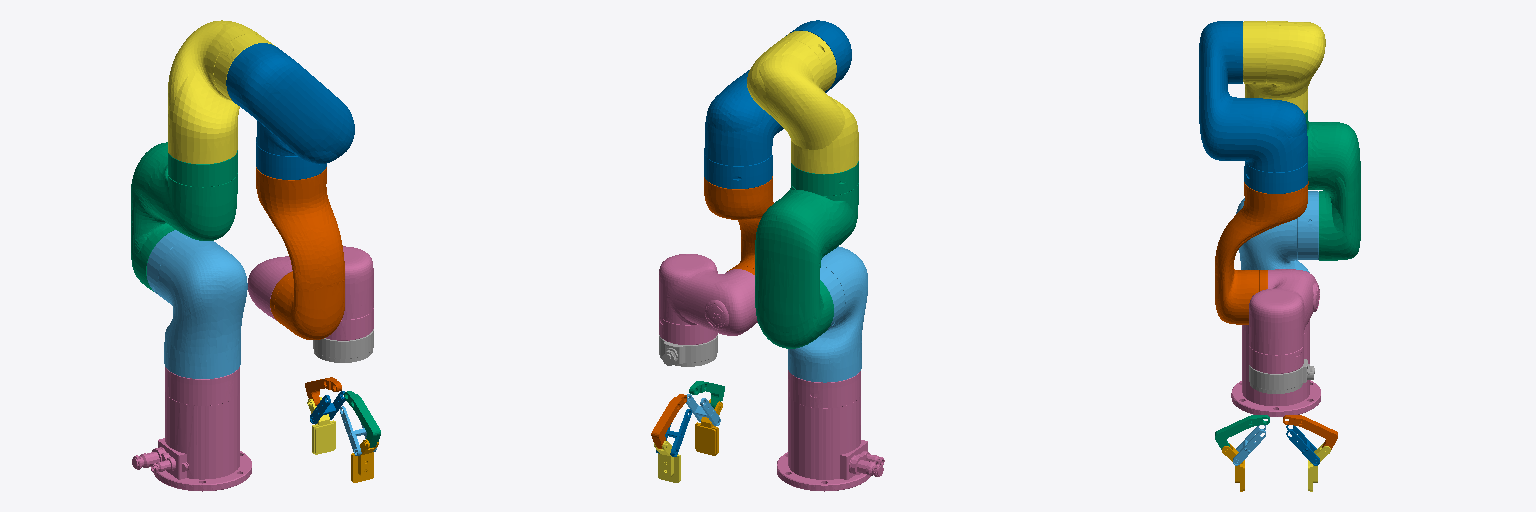
robot.urdf — xarm7:
<?xml version="1.0" encoding="UTF-8"?>
<robot name="xarm7">
  <joint name="UF_ROBOT_root_joint" type="fixed">
    <origin xyz="0. 0. 0." rpy="0. 0. 0."/>
    <parent link="UF_ROBOT"/>
    <child link="world"/>
  </joint>
  <joint name="drive_joint" type="revolute">
    <origin xyz="0. 0.035 0.059098" rpy="0. 0. 0."/>
    <parent link="xarm_gripper_base_link"/>
    <child link="gripper_left_outer_knuckle"/>
    <axis xyz="1. 0. 0."/>
    <limit lower="0." upper="0.85" effort="1000." velocity="1.9999999"/>
  </joint>
  <joint name="gripper_root_joint" type="fixed">
    <origin xyz="-0. 0.0000033 -0. " rpy="-0.0000073 0. 0. "/>
    <parent link="UF_ROBOT_link7"/>
    <child link="xarm_gripper_base_link"/>
  </joint>
  <joint name="joint1" type="revolute">
    <origin xyz="0. 0. 0.267" rpy="0. 0. 0."/>
    <parent link="world"/>
    <child link="UF_ROBOT_link1"/>
    <axis xyz="0. 0. 1."/>
    <limit lower="-6.2831853" upper="6.2831853" effort="50." velocity="3.1399998"/>
  </joint>
  <joint name="joint2" type="revolute">
    <origin xyz="0. 0. 0." rpy="-1.5708 0. 0. "/>
    <parent link="UF_ROBOT_link1"/>
    <child link="UF_ROBOT_link2"/>
    <axis xyz="0. 0. 1."/>
    <limit lower="-2.059" upper="2.0943998" effort="50." velocity="3.1399998"/>
  </joint>
  <joint name="joint3" type="revolute">
    <origin xyz="0. -0.293 -0. " rpy="1.5708 0. 0. "/>
    <parent link="UF_ROBOT_link2"/>
    <child link="UF_ROBOT_link3"/>
    <axis xyz="0. 0. 1."/>
    <limit lower="-6.2831853" upper="6.2831853" effort="30." velocity="3.1399998"/>
  </joint>
  <joint name="joint4" type="revolute">
    <origin xyz="0.0525 0. 0. " rpy="1.5708 0. 0. "/>
    <parent link="UF_ROBOT_link3"/>
    <child link="UF_ROBOT_link4"/>
    <axis xyz="0. 0. 1."/>
    <limit lower="-0.19198" upper="3.9269999" effort="30." velocity="3.1399998"/>
  </joint>
  <joint name="joint5" type="revolute">
    <origin xyz="0.0775 -0.3425 0. " rpy="1.5708 0. 0. "/>
    <parent link="UF_ROBOT_link4"/>
    <child link="UF_ROBOT_link5"/>
    <axis xyz="0. 0. 1."/>
    <limit lower="-6.2831853" upper="6.2831853" effort="30." velocity="3.1399998"/>
  </joint>
  <joint name="joint6" type="revolute">
    <origin xyz="0. -0. 0." rpy="1.5708001 0. 0. "/>
    <parent link="UF_ROBOT_link5"/>
    <child link="UF_ROBOT_link6"/>
    <axis xyz="0. 0. 1."/>
    <limit lower="-1.6929699" upper="3.1415927" effort="20." velocity="3.1399998"/>
  </joint>
  <joint name="joint7" type="revolute">
    <origin xyz="0.076 0.097 0. " rpy="-1.5708 0. 0. "/>
    <parent link="UF_ROBOT_link6"/>
    <child link="UF_ROBOT_link7"/>
    <axis xyz="0. 0. 1."/>
    <limit lower="-6.2831853" upper="6.2831853" effort="20." velocity="3.1399998"/>
  </joint>
  <joint name="left_finger_joint" type="revolute">
    <origin xyz="0. 0.035465 0.042039" rpy="0. 0. 3.1415927"/>
    <parent link="gripper_left_outer_knuckle"/>
    <child link="gripper_left_finger"/>
    <axis xyz="1. 0. 0."/>
    <limit lower="-0.17" upper="1.02" effort="0." velocity="17453.2925199"/>
  </joint>
  <joint name="left_inner_knuckle_joint" type="revolute">
    <origin xyz="0. 0.02 0.074098" rpy="0. 0. 0."/>
    <parent link="xarm_gripper_base_link"/>
    <child link="gripper_left_inner_knuckle"/>
    <axis xyz="1. 0. 0."/>
    <limit lower="-0.17" upper="1.02" effort="0." velocity="17453.2925199"/>
  </joint>
  <joint name="right_finger_joint" type="revolute">
    <origin xyz="0. 0.035465 0.042039" rpy="0. 0. 3.1415927"/>
    <parent link="gripper_right_outer_knuckle"/>
    <child link="gripper_right_finger"/>
    <axis xyz="1. 0. 0."/>
    <limit lower="-0.17" upper="1.02" effort="0." velocity="17453.2925199"/>
  </joint>
  <joint name="right_inner_knuckle_joint" type="revolute">
    <origin xyz="0. -0.02 0.074098" rpy="0. 0. 3.1415927"/>
    <parent link="xarm_gripper_base_link"/>
    <child link="gripper_right_inner_knuckle"/>
    <axis xyz="1. 0. 0."/>
    <limit lower="-0.17" upper="1.02" effort="0." velocity="17453.2925199"/>
  </joint>
  <joint name="right_outer_knuckle_joint" type="revolute">
    <origin xyz="0. -0.035 0.059098" rpy="0. 0. 3.1415927"/>
    <parent link="xarm_gripper_base_link"/>
    <child link="gripper_right_outer_knuckle"/>
    <axis xyz="1. 0. 0."/>
    <limit lower="-0.17" upper="1.02" effort="0." velocity="17453.2925199"/>
  </joint>
  <link name="UF_ROBOT"/>
  <link name="UF_ROBOT_link1">
    <inertial>
      <origin xyz="-0.0002 0.02905 -0.01233" rpy="0. 0. 0."/>
      <mass value="2.382"/>
      <inertia ixx="0.0056905" ixy="-0.0000158" ixz="0.0000051" iyy="0.0049566" iyz="-0.0008734" izz="0.0033167"/>
    </inertial>
    <visual>
      <origin xyz="0. 0. 0." rpy="1.5707872 0. 0. "/>
      <geometry>
        <mesh filename="./meshes/UF_ROBOT_link1_visuals_link1_mesh.obj" scale="1. 1. 1."/>
      </geometry>
    </visual>
    <visual>
      <origin xyz="0. 0. 0." rpy="0. 0. 0."/>
      <geometry>
        <mesh filename="./meshes/UF_ROBOT_link1_collisions_link1_mesh.obj" scale="1. 1. 1."/>
      </geometry>
    </visual>
    <collision>
      <origin xyz="0. 0. 0." rpy="0. 0. 0."/>
      <geometry>
        <mesh filename="./meshes/UF_ROBOT_link1_collisions_link1_mesh.obj" scale="1. 1. 1."/>
      </geometry>
    </collision>
  </link>
  <link name="UF_ROBOT_link2">
    <inertial>
      <origin xyz="0.00022 -0.12856 0.01735" rpy="0. 0. 0."/>
      <mass value="1.869"/>
      <inertia ixx="0.0095989" ixy="0.0000015" ixz="0.0000056" iyy="0.0038247" iyz="-0.0031716" izz="0.0075657"/>
    </inertial>
    <visual>
      <origin xyz="0. 0. 0." rpy="1.5707873 0. 0. "/>
      <geometry>
        <mesh filename="./meshes/UF_ROBOT_link2_visuals_link2_mesh.obj" scale="1. 1. 1."/>
      </geometry>
    </visual>
    <visual>
      <origin xyz="0. 0. 0." rpy="0.0000001 0. 0. "/>
      <geometry>
        <mesh filename="./meshes/UF_ROBOT_link2_collisions_link2_mesh.obj" scale="1. 1. 1."/>
      </geometry>
    </visual>
    <collision>
      <origin xyz="0. 0. 0." rpy="0.0000001 0. 0. "/>
      <geometry>
        <mesh filename="./meshes/UF_ROBOT_link2_collisions_link2_mesh.obj" scale="1. 1. 1."/>
      </geometry>
    </collision>
  </link>
  <link name="UF_ROBOT_link3">
    <inertial>
      <origin xyz="0.0466 -0.02463 -0.00768" rpy="0. 0. 0."/>
      <mass value="1.6382999"/>
      <inertia ixx="0.0031096" ixy="0.0003084" ixz="-0.0005845" iyy="0.0026448" iyz="0.0003389" izz="0.0026624"/>
    </inertial>
    <visual>
      <origin xyz="0. 0. 0." rpy="1.5707872 0. 0. "/>
      <geometry>
        <mesh filename="./meshes/UF_ROBOT_link3_visuals_link3_mesh.obj" scale="1. 1. 1."/>
      </geometry>
    </visual>
    <visual>
      <origin xyz="0. 0. 0." rpy="-0.0000001 0. 0. "/>
      <geometry>
        <mesh filename="./meshes/UF_ROBOT_link3_collisions_link3_mesh.obj" scale="1. 1. 1."/>
      </geometry>
    </visual>
    <collision>
      <origin xyz="0. 0. 0." rpy="-0.0000001 0. 0. "/>
      <geometry>
        <mesh filename="./meshes/UF_ROBOT_link3_collisions_link3_mesh.obj" scale="1. 1. 1."/>
      </geometry>
    </collision>
  </link>
  <link name="UF_ROBOT_link4">
    <inertial>
      <origin xyz="0.07047 -0.11575 0.012 " rpy="0. 0. 0."/>
      <mass value="1.7269"/>
      <inertia ixx="0.005889" ixy="0.0013711" ixz="0.0008814" iyy="0.003597" iyz="-0.0017622" izz="0.0054324"/>
    </inertial>
    <visual>
      <origin xyz="0. 0. 0." rpy="1.5707872 0. 0. "/>
      <geometry>
        <mesh filename="./meshes/UF_ROBOT_link4_visuals_link4_mesh.obj" scale="1. 1. 1."/>
      </geometry>
    </visual>
    <visual>
      <origin xyz="0. 0. 0." rpy="-0.0000001 0. 0. "/>
      <geometry>
        <mesh filename="./meshes/UF_ROBOT_link4_collisions_link4_mesh.obj" scale="1. 1. 1."/>
      </geometry>
    </visual>
    <collision>
      <origin xyz="0. 0. 0." rpy="-0.0000001 0. 0. "/>
      <geometry>
        <mesh filename="./meshes/UF_ROBOT_link4_collisions_link4_mesh.obj" scale="1. 1. 1."/>
      </geometry>
    </collision>
  </link>
  <link name="UF_ROBOT_link5">
    <inertial>
      <origin xyz="-0.00032 0.01604 -0.026 " rpy="0. 0. 0."/>
      <mass value="1.3203"/>
      <inertia ixx="0.0053467" ixy="0.0000151" ixz="-0.0000004" iyy="0.0049779" iyz="-0.0002213" izz="0.0013624"/>
    </inertial>
    <visual>
      <origin xyz="0. -0. 0." rpy="1.5707873 0. 0. "/>
      <geometry>
        <mesh filename="./meshes/UF_ROBOT_link5_visuals_link5_mesh.obj" scale="1. 1. 1."/>
      </geometry>
    </visual>
    <visual>
      <origin xyz="0. -0. 0." rpy="0.0000001 0. 0. "/>
      <geometry>
        <mesh filename="./meshes/UF_ROBOT_link5_collisions_link5_mesh.obj" scale="1. 1. 1."/>
      </geometry>
    </visual>
    <collision>
      <origin xyz="0. -0. 0." rpy="0.0000001 0. 0. "/>
      <geometry>
        <mesh filename="./meshes/UF_ROBOT_link5_collisions_link5_mesh.obj" scale="1. 1. 1."/>
      </geometry>
    </collision>
  </link>
  <link name="UF_ROBOT_link6">
    <inertial>
      <origin xyz="0.06469 0.03278 0.02141" rpy="0. 0. 0."/>
      <mass value="1.325"/>
      <inertia ixx="0.0014745" ixy="-0.000488" ixz="0.0002953" iyy="0.0019037" iyz="0.0001475" izz="0.0023652"/>
    </inertial>
    <visual>
      <origin xyz="0. 0. 0." rpy="1.5707872 0. 0. "/>
      <geometry>
        <mesh filename="./meshes/UF_ROBOT_link6_visuals_link6_mesh.obj" scale="1. 1. 1."/>
      </geometry>
    </visual>
    <visual>
      <origin xyz="0. 0. 0." rpy="0. 0. 0."/>
      <geometry>
        <mesh filename="./meshes/UF_ROBOT_link6_collisions_link6_mesh.obj" scale="1. 1. 1."/>
      </geometry>
    </visual>
    <collision>
      <origin xyz="0. 0. 0." rpy="0. 0. 0."/>
      <geometry>
        <mesh filename="./meshes/UF_ROBOT_link6_collisions_link6_mesh.obj" scale="1. 1. 1."/>
      </geometry>
    </collision>
  </link>
  <link name="UF_ROBOT_link7">
    <inertial>
      <origin xyz="0. -0.00677 -0.01098" rpy="0. 0. 0."/>
      <mass value="0.17"/>
      <inertia ixx="0.000093" ixy="0." ixz="0." iyy="0.0000587" iyz="-0.0000036" izz="0.000132"/>
    </inertial>
    <visual>
      <origin xyz="0. -0. 0." rpy="1.5707872 0. 0. "/>
      <geometry>
        <mesh filename="./meshes/UF_ROBOT_link7_visuals_link7_mesh.obj" scale="1. 1. 1."/>
      </geometry>
    </visual>
    <visual>
      <origin xyz="0. -0. 0." rpy="-0. 0. 0."/>
      <geometry>
        <mesh filename="./meshes/end_tool_mesh.obj" scale="1. 1. 1."/>
      </geometry>
    </visual>
    <collision>
      <origin xyz="0. -0. 0." rpy="-0. 0. 0."/>
      <geometry>
        <mesh filename="./meshes/end_tool_mesh.obj" scale="1. 1. 1."/>
      </geometry>
    </collision>
  </link>
  <link name="gripper_left_finger">
    <inertial>
      <origin xyz="0. -0.016413 0.029258" rpy="0. 0. 0."/>
      <mass value="0.048304"/>
      <inertia ixx="0.0000175" ixy="0." ixz="0." iyy="0.0000172" iyz="-0.0000046" izz="0.0000051"/>
    </inertial>
    <visual>
      <origin xyz="0. 0. -0." rpy="1.5707872 0. -3.1415927"/>
      <geometry>
        <mesh filename="./meshes/gripper_left_finger_visuals_left_finger_mesh.obj" scale="1. 1. 1."/>
      </geometry>
    </visual>
    <visual>
      <origin xyz="0. 0. -0." rpy="0. 0. 3.1415927"/>
      <geometry>
        <mesh filename="./meshes/gripper_left_finger_collisions_left_finger_mesh.obj" scale="1. 1. 1."/>
      </geometry>
    </visual>
    <collision>
      <origin xyz="0. 0. -0." rpy="0. 0. 3.1415927"/>
      <geometry>
        <mesh filename="./meshes/gripper_left_finger_collisions_left_finger_mesh.obj" scale="1. 1. 1."/>
      </geometry>
    </collision>
  </link>
  <link name="gripper_left_inner_knuckle">
    <inertial>
      <origin xyz="0.0000019 0.0220468 0.0261335" rpy="0. 0. 0."/>
      <mass value="0.0230126"/>
      <inertia ixx="0.0000061" ixy="-0." ixz="-0." iyy="0.000006" iyz="0.0000028" izz="0.0000051"/>
    </inertial>
    <visual>
      <origin xyz="0. 0. 0." rpy="1.5707872 0. 0. "/>
      <geometry>
        <mesh filename="./meshes/gripper_left_inner_knuckle_visuals_left_inner_knuckle_mesh.obj" scale="1. 1. 1."/>
      </geometry>
    </visual>
    <visual>
      <origin xyz="0. 0. 0." rpy="0. 0. 0."/>
      <geometry>
        <mesh filename="./meshes/gripper_left_inner_knuckle_collisions_left_inner_knuckle_mesh.obj" scale="1. 1. 1."/>
      </geometry>
    </visual>
    <collision>
      <origin xyz="0. 0. 0." rpy="0. 0. 0."/>
      <geometry>
        <mesh filename="./meshes/gripper_left_inner_knuckle_collisions_left_inner_knuckle_mesh.obj" scale="1. 1. 1."/>
      </geometry>
    </collision>
  </link>
  <link name="gripper_left_outer_knuckle">
    <inertial>
      <origin xyz="0. 0.021559 0.015181" rpy="0. 0. 0."/>
      <mass value="0.033618"/>
      <inertia ixx="0.0000191" ixy="0." ixz="0." iyy="0.0000066" iyz="0.0000073" izz="0.0000132"/>
    </inertial>
    <visual>
      <origin xyz="0. 0. 0." rpy="1.5707872 0. 0. "/>
      <geometry>
        <mesh filename="./meshes/gripper_left_outer_knuckle_visuals_left_outer_knuckle_mesh.obj" scale="1. 1. 1."/>
      </geometry>
    </visual>
    <visual>
      <origin xyz="0. 0. 0." rpy="0. 0. 0."/>
      <geometry>
        <mesh filename="./meshes/gripper_left_outer_knuckle_collisions_left_outer_knuckle_mesh.obj" scale="1. 1. 1."/>
      </geometry>
    </visual>
    <collision>
      <origin xyz="0. 0. 0." rpy="0. 0. 0."/>
      <geometry>
        <mesh filename="./meshes/gripper_left_outer_knuckle_collisions_left_outer_knuckle_mesh.obj" scale="1. 1. 1."/>
      </geometry>
    </collision>
  </link>
  <link name="gripper_right_finger">
    <inertial>
      <origin xyz="0. 0.016413 0.029258" rpy="0. 0. 0."/>
      <mass value="0.048304"/>
      <inertia ixx="0.0000175" ixy="0." ixz="0." iyy="0.0000172" iyz="0.0000046" izz="0.0000051"/>
    </inertial>
    <visual>
      <origin xyz="0. 0. 0." rpy="1.5707872 0. 0. "/>
      <geometry>
        <mesh filename="./meshes/gripper_right_finger_visuals_right_finger_mesh.obj" scale="1. 1. 1."/>
      </geometry>
    </visual>
    <visual>
      <origin xyz="0. 0. 0." rpy="0. 0. 0."/>
      <geometry>
        <mesh filename="./meshes/gripper_right_finger_collisions_right_finger_mesh.obj" scale="1. 1. 1."/>
      </geometry>
    </visual>
    <collision>
      <origin xyz="0. 0. 0." rpy="0. 0. 0."/>
      <geometry>
        <mesh filename="./meshes/gripper_right_finger_collisions_right_finger_mesh.obj" scale="1. 1. 1."/>
      </geometry>
    </collision>
  </link>
  <link name="gripper_right_inner_knuckle">
    <inertial>
      <origin xyz="0.0000019 -0.022047 0.026133 " rpy="0. 0. 0."/>
      <mass value="0.023013"/>
      <inertia ixx="0.0000061" ixy="0." ixz="-0." iyy="0.000006" iyz="-0.0000028" izz="0.0000051"/>
    </inertial>
    <visual>
      <origin xyz="0. 0. 0." rpy="1.5707872 0. -3.1415927"/>
      <geometry>
        <mesh filename="./meshes/gripper_right_inner_knuckle_visuals_right_inner_knuckle_mesh.obj" scale="1. 1. 1."/>
      </geometry>
    </visual>
    <visual>
      <origin xyz="0. 0. 0." rpy="0. 0. 3.1415927"/>
      <geometry>
        <mesh filename="./meshes/gripper_right_inner_knuckle_collisions_right_inner_knuckle_mesh.obj" scale="1. 1. 1."/>
      </geometry>
    </visual>
    <collision>
      <origin xyz="0. 0. 0." rpy="0. 0. 3.1415927"/>
      <geometry>
        <mesh filename="./meshes/gripper_right_inner_knuckle_collisions_right_inner_knuckle_mesh.obj" scale="1. 1. 1."/>
      </geometry>
    </collision>
  </link>
  <link name="gripper_right_outer_knuckle">
    <inertial>
      <origin xyz="0. -0.021559 0.015181" rpy="0. 0. 0."/>
      <mass value="0.033618"/>
      <inertia ixx="0.0000191" ixy="0." ixz="0." iyy="0.0000066" iyz="-0.0000073" izz="0.0000132"/>
    </inertial>
    <visual>
      <origin xyz="0. 0. 0." rpy="1.5707872 0. -3.1415927"/>
      <geometry>
        <mesh filename="./meshes/gripper_right_outer_knuckle_visuals_right_outer_knuckle_mesh.obj" scale="1. 1. 1."/>
      </geometry>
    </visual>
    <visual>
      <origin xyz="0. 0. 0." rpy="0. 0. 3.1415927"/>
      <geometry>
        <mesh filename="./meshes/gripper_right_outer_knuckle_collisions_right_outer_knuckle_mesh.obj" scale="1. 1. 1."/>
      </geometry>
    </visual>
    <collision>
      <origin xyz="0. 0. 0." rpy="0. 0. 3.1415927"/>
      <geometry>
        <mesh filename="./meshes/gripper_right_outer_knuckle_collisions_right_outer_knuckle_mesh.obj" scale="1. 1. 1."/>
      </geometry>
    </collision>
  </link>
  <link name="world">
    <inertial>
      <origin xyz="-0.021131 -0.0016302 0.056488 " rpy="0. 0. 0."/>
      <mass value="0.88556"/>
      <inertia ixx="0.0030595" ixy="0.0001226" ixz="-0.000627" iyy="0.0037783" iyz="0.0002702" izz="0.0020125"/>
    </inertial>
    <visual>
      <origin xyz="0. 0. 0." rpy="1.5707872 0. 0. "/>
      <geometry>
        <mesh filename="./meshes/world_visuals_link_base_mesh.obj" scale="1. 1. 1."/>
      </geometry>
    </visual>
    <visual>
      <origin xyz="0. 0. 0." rpy="0. 0. 0."/>
      <geometry>
        <mesh filename="./meshes/world_collisions_link_base_mesh.obj" scale="1. 1. 1."/>
      </geometry>
    </visual>
    <collision>
      <origin xyz="0. 0. 0." rpy="0. 0. 0."/>
      <geometry>
        <mesh filename="./meshes/world_collisions_link_base_mesh.obj" scale="1. 1. 1."/>
      </geometry>
    </collision>
  </link>
  <link name="xarm_gripper_base_link">
    <inertial>
      <origin xyz="-0.0006549 -0.0018497 0.048028 " rpy="0. 0. 0."/>
      <mass value="0.54156"/>
      <inertia ixx="0.0004711" ixy="-0.0000004" ixz="-0.0000027" iyy="0.0003307" iyz="0.000011" izz="0.0002564"/>
    </inertial>
    <visual>
      <origin xyz="0. 0. 0." rpy="0. 0. 0."/>
      <geometry>
        <mesh filename="./meshes/xarm_gripper_base_link_visuals_base_link_mesh.obj" scale="1. 1. 1."/>
      </geometry>
    </visual>
    <visual>
      <origin xyz="0. 0. 0." rpy="0. 0. 0."/>
      <geometry>
        <mesh filename="./meshes/xarm_gripper_base_link_collisions_base_link_mesh.obj" scale="1. 1. 1."/>
      </geometry>
    </visual>
    <collision>
      <origin xyz="0. 0. 0." rpy="0. 0. 0."/>
      <geometry>
        <mesh filename="./meshes/xarm_gripper_base_link_collisions_base_link_mesh.obj" scale="1. 1. 1."/>
      </geometry>
    </collision>
  </link>
</robot>

--- Facts derived from the render (not from the file) ---
The picture shows the robot from 3 angles, left to right: view 1: azimuth 30°, elevation 25°; view 2: azimuth 150°, elevation 25°; view 3: azimuth 270°, elevation 25°; orthographic projection.
Robot: xarm7 — 16 links, 15 joints (13 revolute, 2 fixed); root link UF_ROBOT; default pose: every joint at zero.
Links seen in each view (by area): view 1: UF_ROBOT_link4, UF_ROBOT_link1, UF_ROBOT_link5, world, UF_ROBOT_link2, UF_ROBOT_link3, UF_ROBOT_link6, UF_ROBOT_link7, gripper_right_finger, gripper_left_outer_knuckle, gripper_left_finger, gripper_right_inner_knuckle; view 2: UF_ROBOT_link2, UF_ROBOT_link3, world, UF_ROBOT_link4, UF_ROBOT_link6, UF_ROBOT_link1, UF_ROBOT_link5, UF_ROBOT_link7, gripper_left_finger, gripper_right_finger, gripper_right_outer_knuckle; view 3: UF_ROBOT_link4, UF_ROBOT_link2, UF_ROBOT_link3, UF_ROBOT_link6, UF_ROBOT_link5, UF_ROBOT_link1, world, UF_ROBOT_link7, gripper_right_outer_knuckle, gripper_left_outer_knuckle, gripper_right_inner_knuckle, gripper_left_inner_knuckle.
Boxes of the visible links, left/top/right/bottom form: UF_ROBOT_link4: left=226, top=43, right=354, bottom=179; UF_ROBOT_link1: left=147, top=230, right=247, bottom=378; UF_ROBOT_link5: left=256, top=167, right=344, bottom=339; world: left=132, top=367, right=251, bottom=491; UF_ROBOT_link2: left=131, top=142, right=237, bottom=291; UF_ROBOT_link3: left=168, top=20, right=274, bottom=163; UF_ROBOT_link6: left=248, top=246, right=373, bottom=340; UF_ROBOT_link7: left=313, top=329, right=373, bottom=362; gripper_right_finger: left=307, top=397, right=335, bottom=454; gripper_left_outer_knuckle: left=344, top=391, right=380, bottom=447; gripper_left_finger: left=351, top=439, right=378, bottom=482; gripper_right_inner_knuckle: left=310, top=391, right=345, bottom=423; UF_ROBOT_link2: left=755, top=161, right=858, bottom=348; UF_ROBOT_link3: left=747, top=31, right=858, bottom=173; world: left=777, top=370, right=884, bottom=491; UF_ROBOT_link4: left=704, top=20, right=851, bottom=188; UF_ROBOT_link6: left=659, top=254, right=757, bottom=344; UF_ROBOT_link1: left=788, top=246, right=867, bottom=382; UF_ROBOT_link5: left=704, top=176, right=773, bottom=274; UF_ROBOT_link7: left=659, top=335, right=717, bottom=366; gripper_left_finger: left=695, top=399, right=722, bottom=455; gripper_right_finger: left=654, top=441, right=680, bottom=482; gripper_right_outer_knuckle: left=651, top=394, right=686, bottom=448; UF_ROBOT_link4: left=1199, top=21, right=1307, bottom=193; UF_ROBOT_link2: left=1304, top=110, right=1360, bottom=260; UF_ROBOT_link3: left=1243, top=21, right=1325, bottom=113; UF_ROBOT_link6: left=1249, top=269, right=1319, bottom=373; UF_ROBOT_link5: left=1215, top=181, right=1308, bottom=324; UF_ROBOT_link1: left=1236, top=191, right=1318, bottom=272; world: left=1231, top=320, right=1320, bottom=416; UF_ROBOT_link7: left=1249, top=359, right=1314, bottom=393; gripper_right_outer_knuckle: left=1283, top=415, right=1337, bottom=449; gripper_left_outer_knuckle: left=1215, top=415, right=1269, bottom=449; gripper_right_inner_knuckle: left=1286, top=425, right=1319, bottom=465; gripper_left_inner_knuckle: left=1233, top=425, right=1265, bottom=465.
Size in the robot's own frame: 0.3372 by 0.2279 by 0.6461 metres.
Meshes: 30 distinct files referenced, 28 mesh visuals loaded (28 OBJ); not drawn: 2 (reference not matched to a file when rendering).
